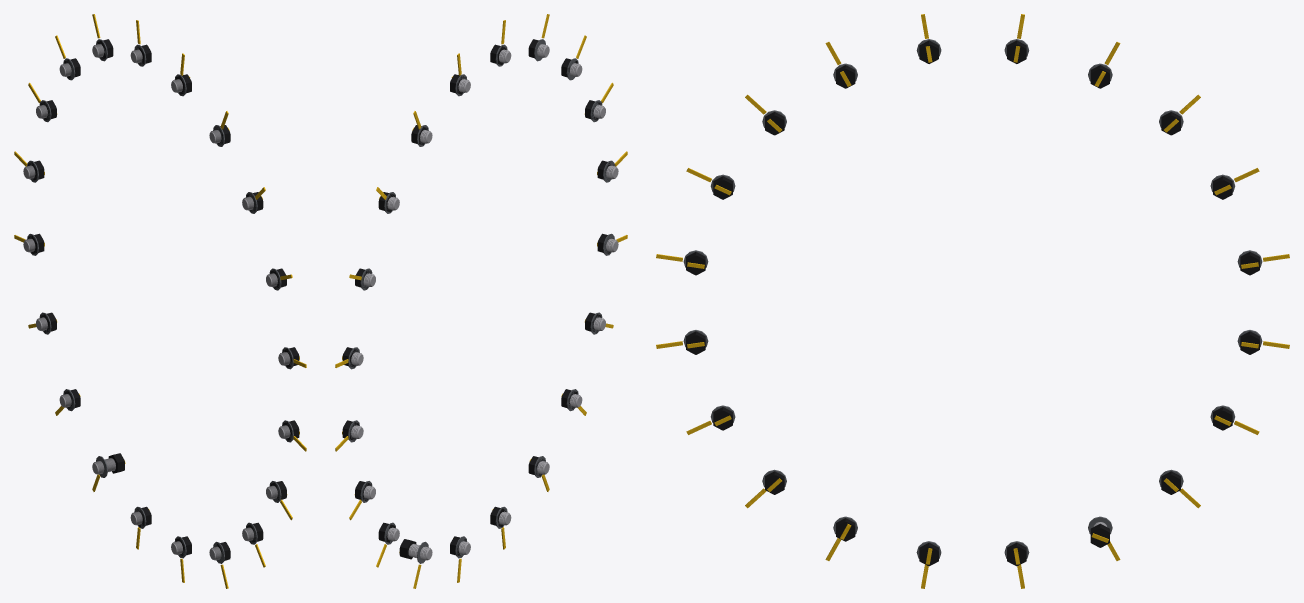
File: shrink_disc_bolts_loose.glb
The picture shows the model from 3 angles, left to right: view 1: azimuth 30°, elevation 25°; view 2: azimuth 150°, elevation 25°; view 3: azimuth 270°, elevation 25°; orthographic projection. The views are drawn at different scales.
Parts seen in each view (by area): view 1: shrink_disc_bolts_loose; view 2: shrink_disc_bolts_loose; view 3: shrink_disc_bolts_loose.
Boxes of the visible parts, x1,y1,x2,y2 form: shrink_disc_bolts_loose: (14,14,306,588); shrink_disc_bolts_loose: (335,14,627,588); shrink_disc_bolts_loose: (656,14,1289,588).
Size of the model in its own units: 0.05 by 0.9491 by 0.9491.
Materials: 4 (3 with a texture image).
